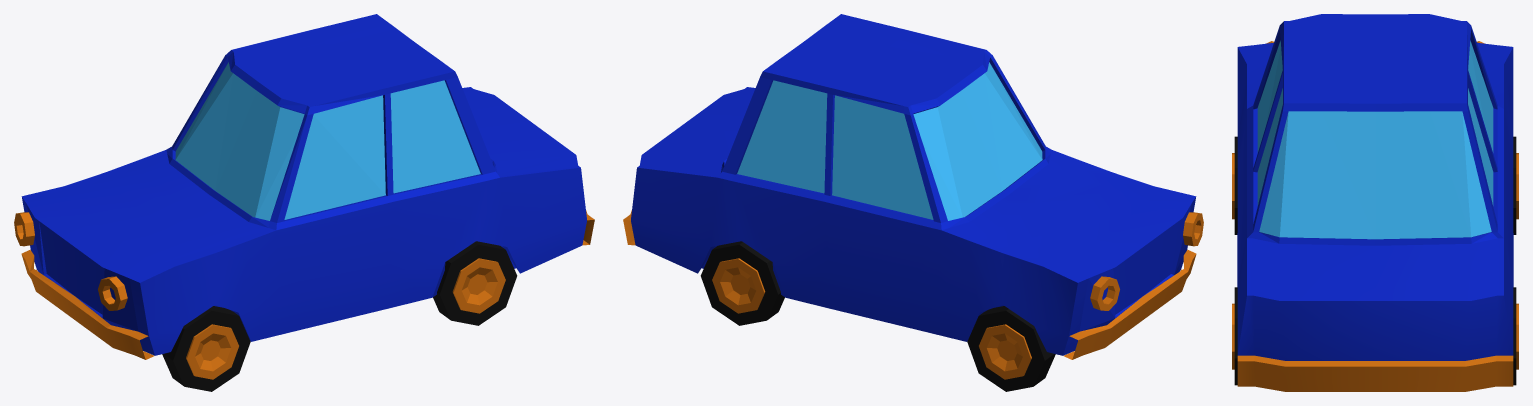
Rendered from car2.FBX.
3 renders of one model, left to right at view 1: azimuth 30°, elevation 25°; view 2: azimuth 150°, elevation 25°; view 3: azimuth 270°, elevation 25°, orthographic. The views are drawn at different scales.
Parts seen in each view (by area): view 1: Peugeot 505m; view 2: Peugeot 505m; view 3: Peugeot 505m.
Part boxes in pixels (left/top/right/bottom): Peugeot 505m: left=14, top=14, right=594, bottom=391; Peugeot 505m: left=623, top=14, right=1203, bottom=391; Peugeot 505m: left=1232, top=14, right=1518, bottom=391.
Size of the model in its own units: 37.36 by 17.77 by 16.48.
